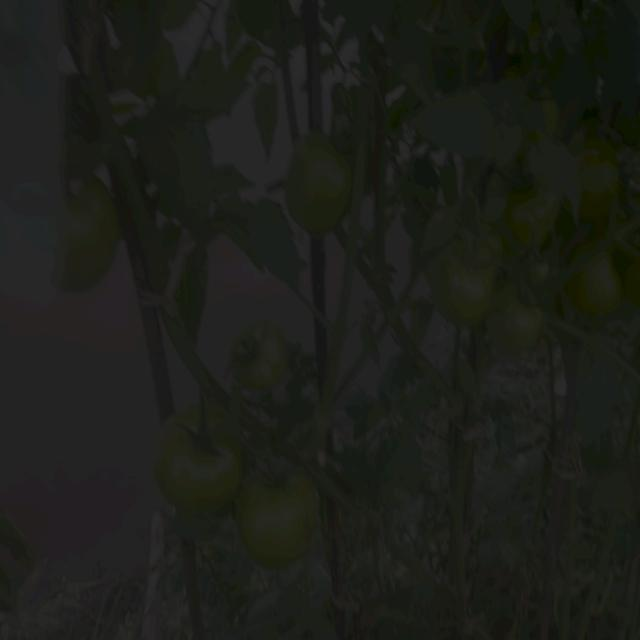tomato: (230, 455, 323, 574), (159, 405, 252, 510), (425, 214, 489, 325), (284, 134, 353, 234), (64, 178, 119, 302), (571, 134, 627, 232), (234, 320, 290, 401), (573, 255, 633, 318), (489, 295, 543, 352), (510, 193, 555, 251)
